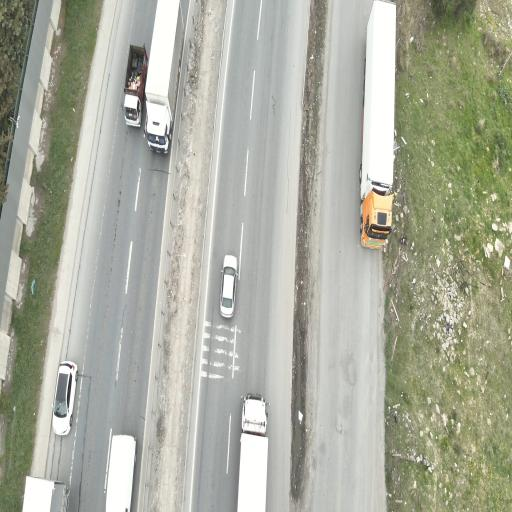car: (52, 361, 77, 435), (220, 256, 237, 317)
truck: (360, 0, 395, 248), (145, 0, 183, 153), (238, 394, 267, 511), (106, 435, 135, 511), (124, 46, 147, 127), (23, 476, 69, 511)
